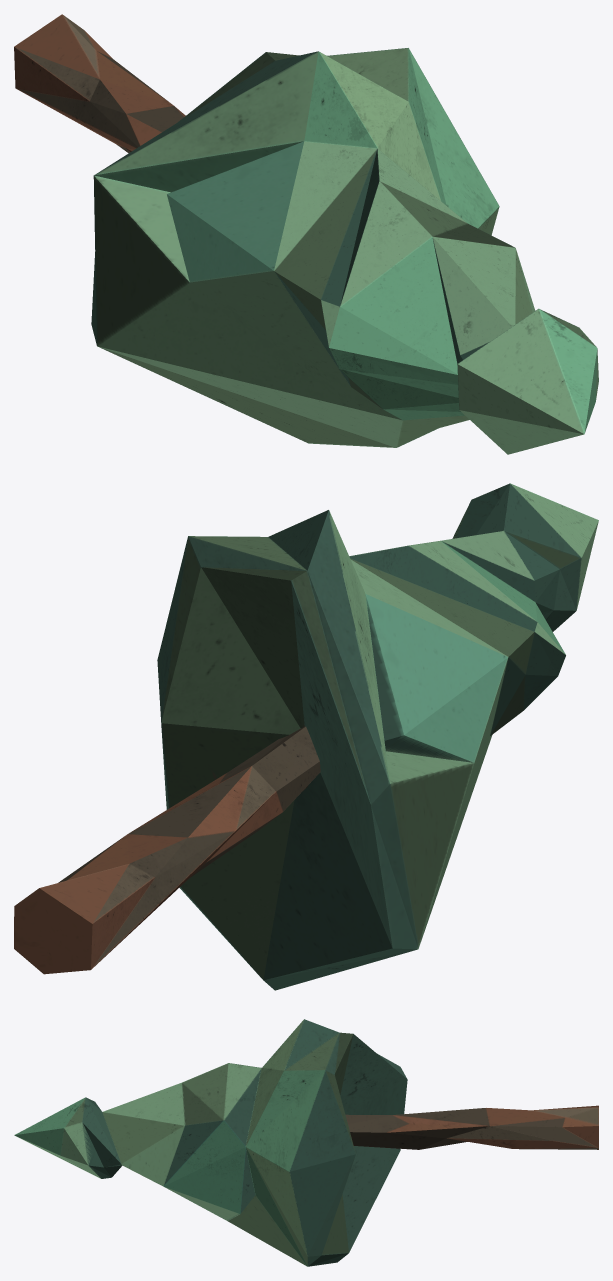
Rendered from Tree2.obj.
3 views of the same model, one above another, from view 1: azimuth 30°, elevation 25°; view 2: azimuth 150°, elevation 25°; view 3: azimuth 270°, elevation 25° (orthographic). The views are drawn at different scales.
Visible parts, largest first — view 1: Object.1; view 2: Object.1; view 3: Object.1.
Boxes of the visible parts, x1,y1,x2,y2 form: Object.1: (14,14,598,454); Object.1: (14,483,598,990); Object.1: (14,1019,598,1266).
Size of the model in its own units: 112 by 140 by 312.
Materials: 1 (1 with a texture image).
